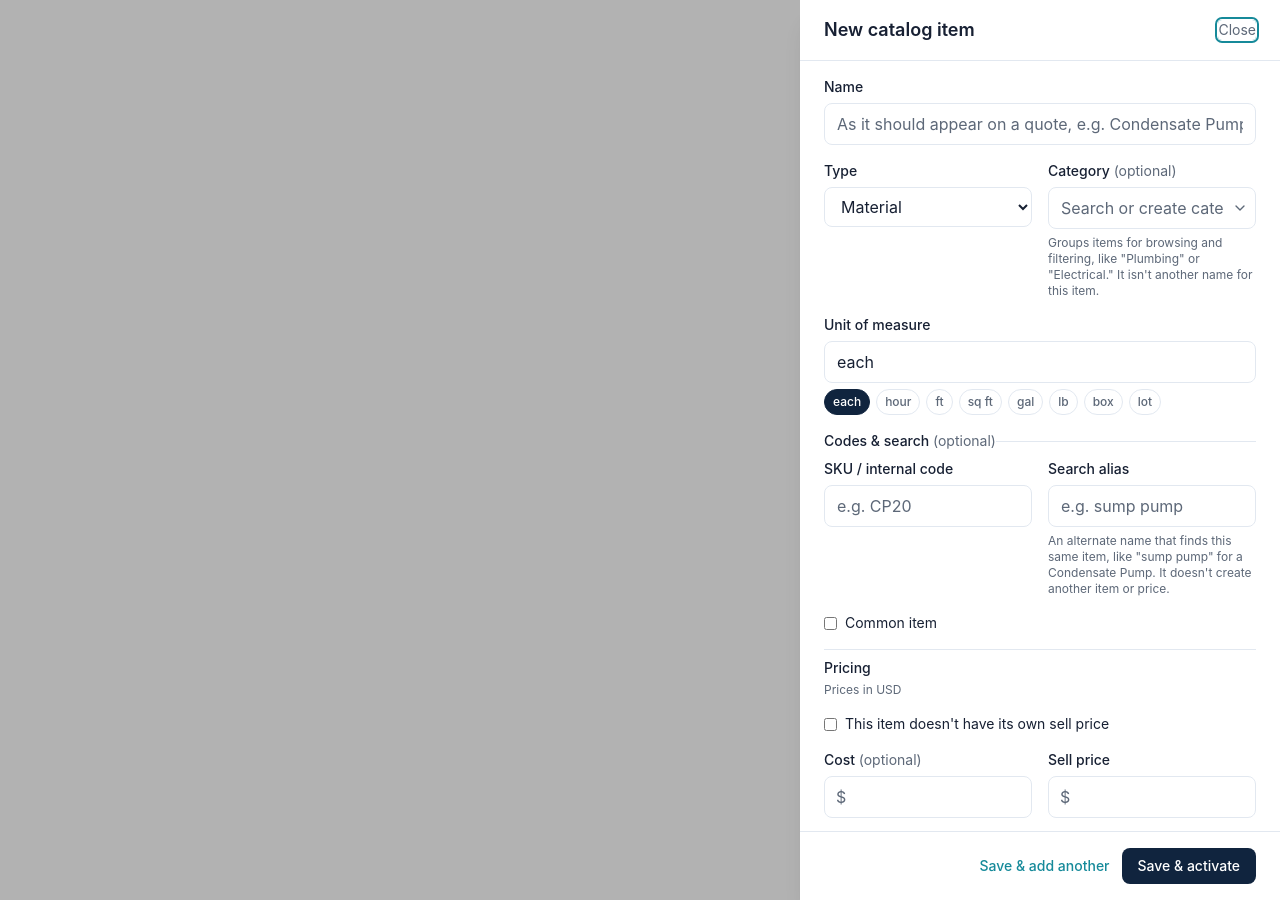
Test case: CatalogItemDrawer › blocks submit, shows a field error, and focuses the field when the name is missing
Type "100" into the number field labelled "Sell price" at (1152, 797), box [1048, 776, 1256, 818]
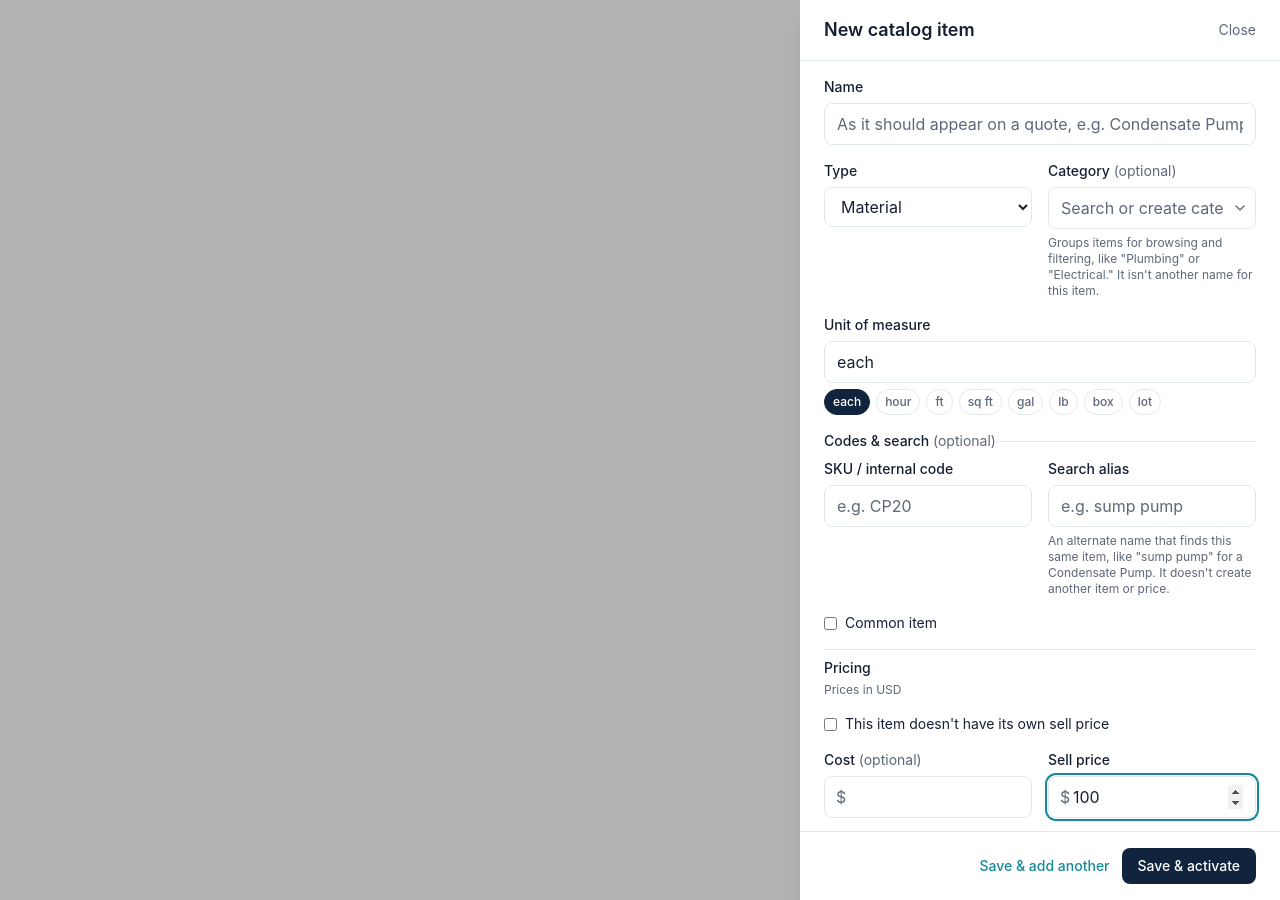
Click the button "Save & activate" at (1189, 866), box [1122, 848, 1256, 884]
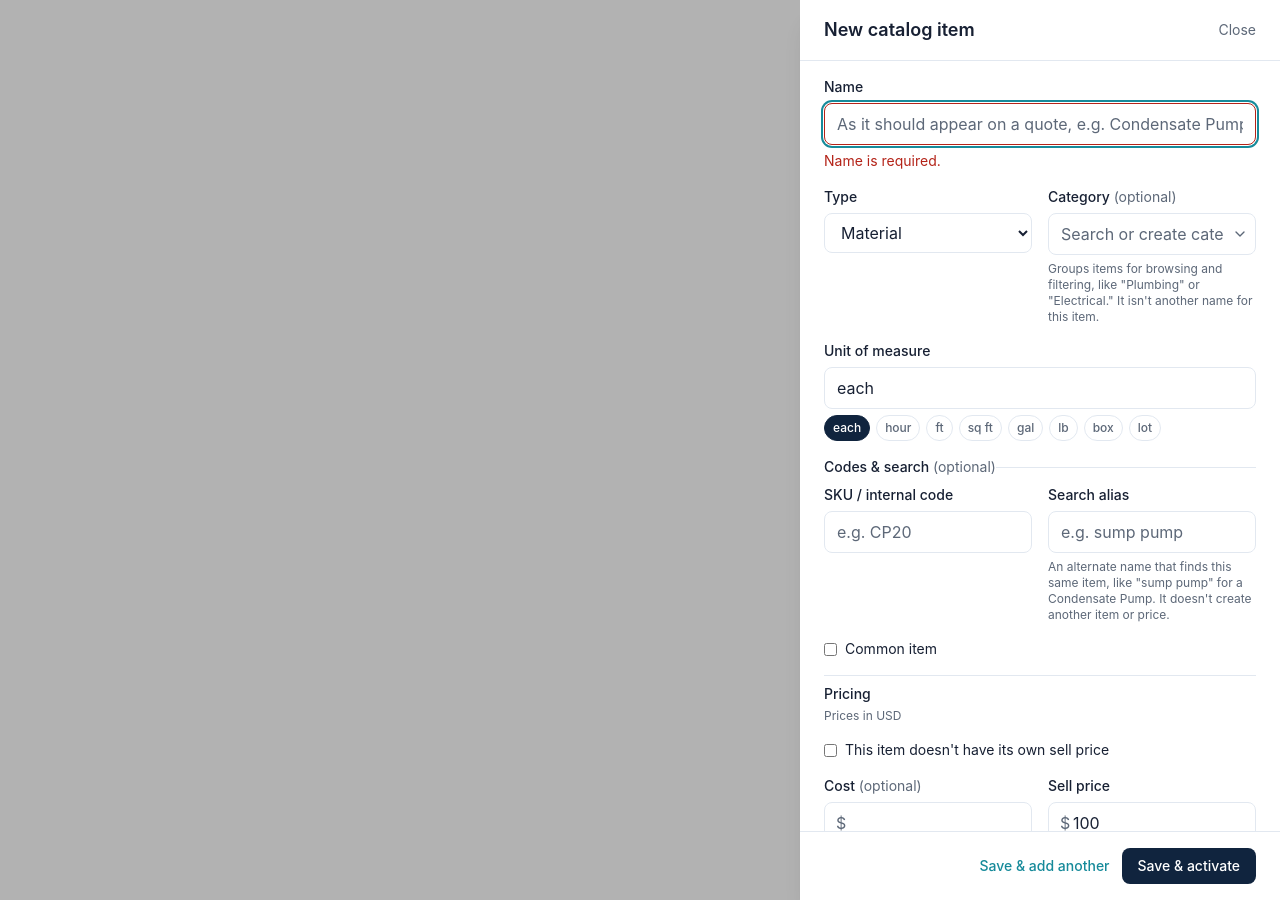
Expected: the text "Name is required." is shown, [824, 152, 941, 169]
